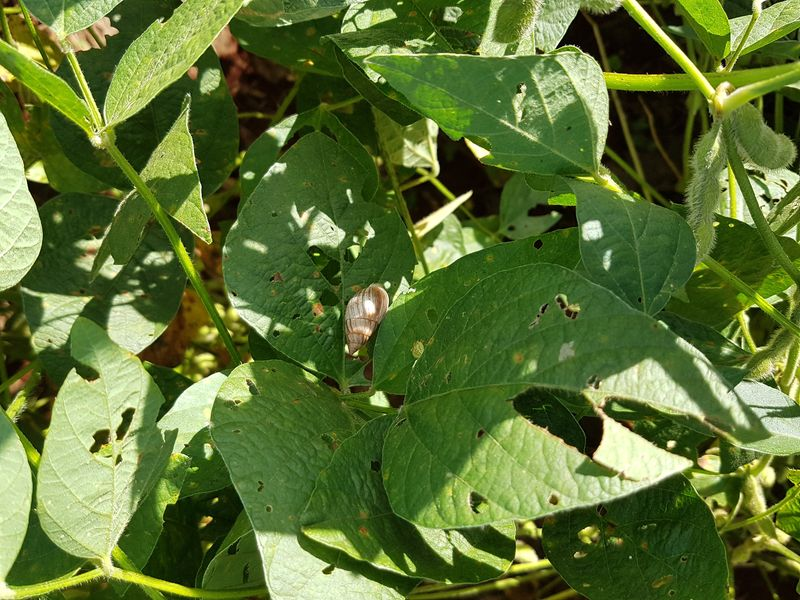Euschistus_heros_ninfa: (402, 335, 433, 364)
Gastropoda: (328, 277, 400, 361)
